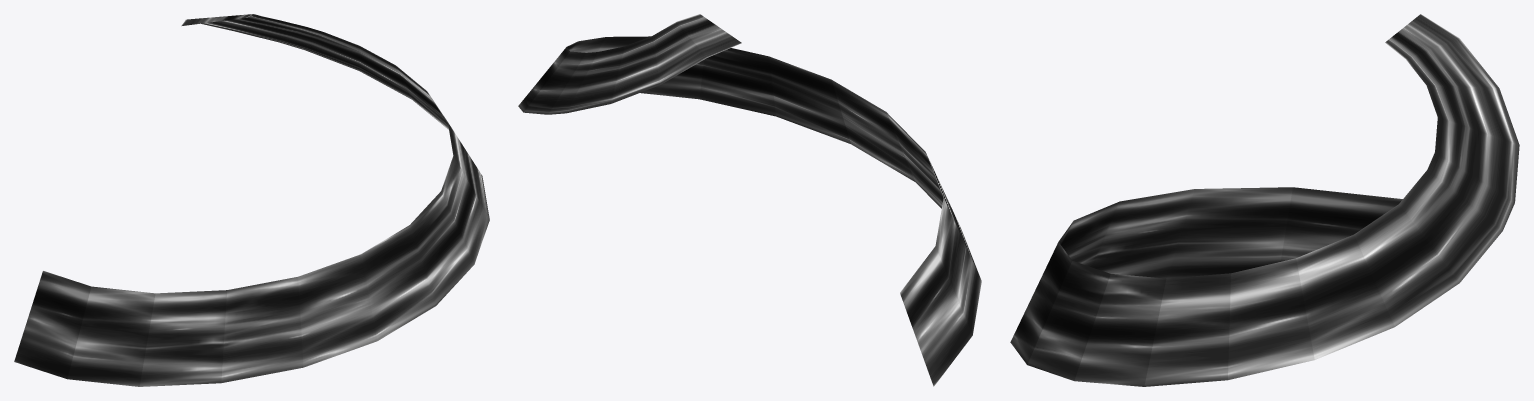
The model's file is xuanzhuan_pian_ly.FBX.
The picture shows the model from 3 angles, left to right: view 1: azimuth 30°, elevation 25°; view 2: azimuth 150°, elevation 25°; view 3: azimuth 270°, elevation 25°; orthographic projection. The views are drawn at different scales.
Parts seen in each view (by area): view 1: Helix002; view 2: Helix002; view 3: Helix002.
Part boxes in pixels (x1,y1,x2,y2): Helix002: (14, 14, 489, 386); Helix002: (518, 14, 981, 386); Helix002: (1010, 14, 1519, 386).
Size of the model in its own units: 3200 by 2190 by 2517.
